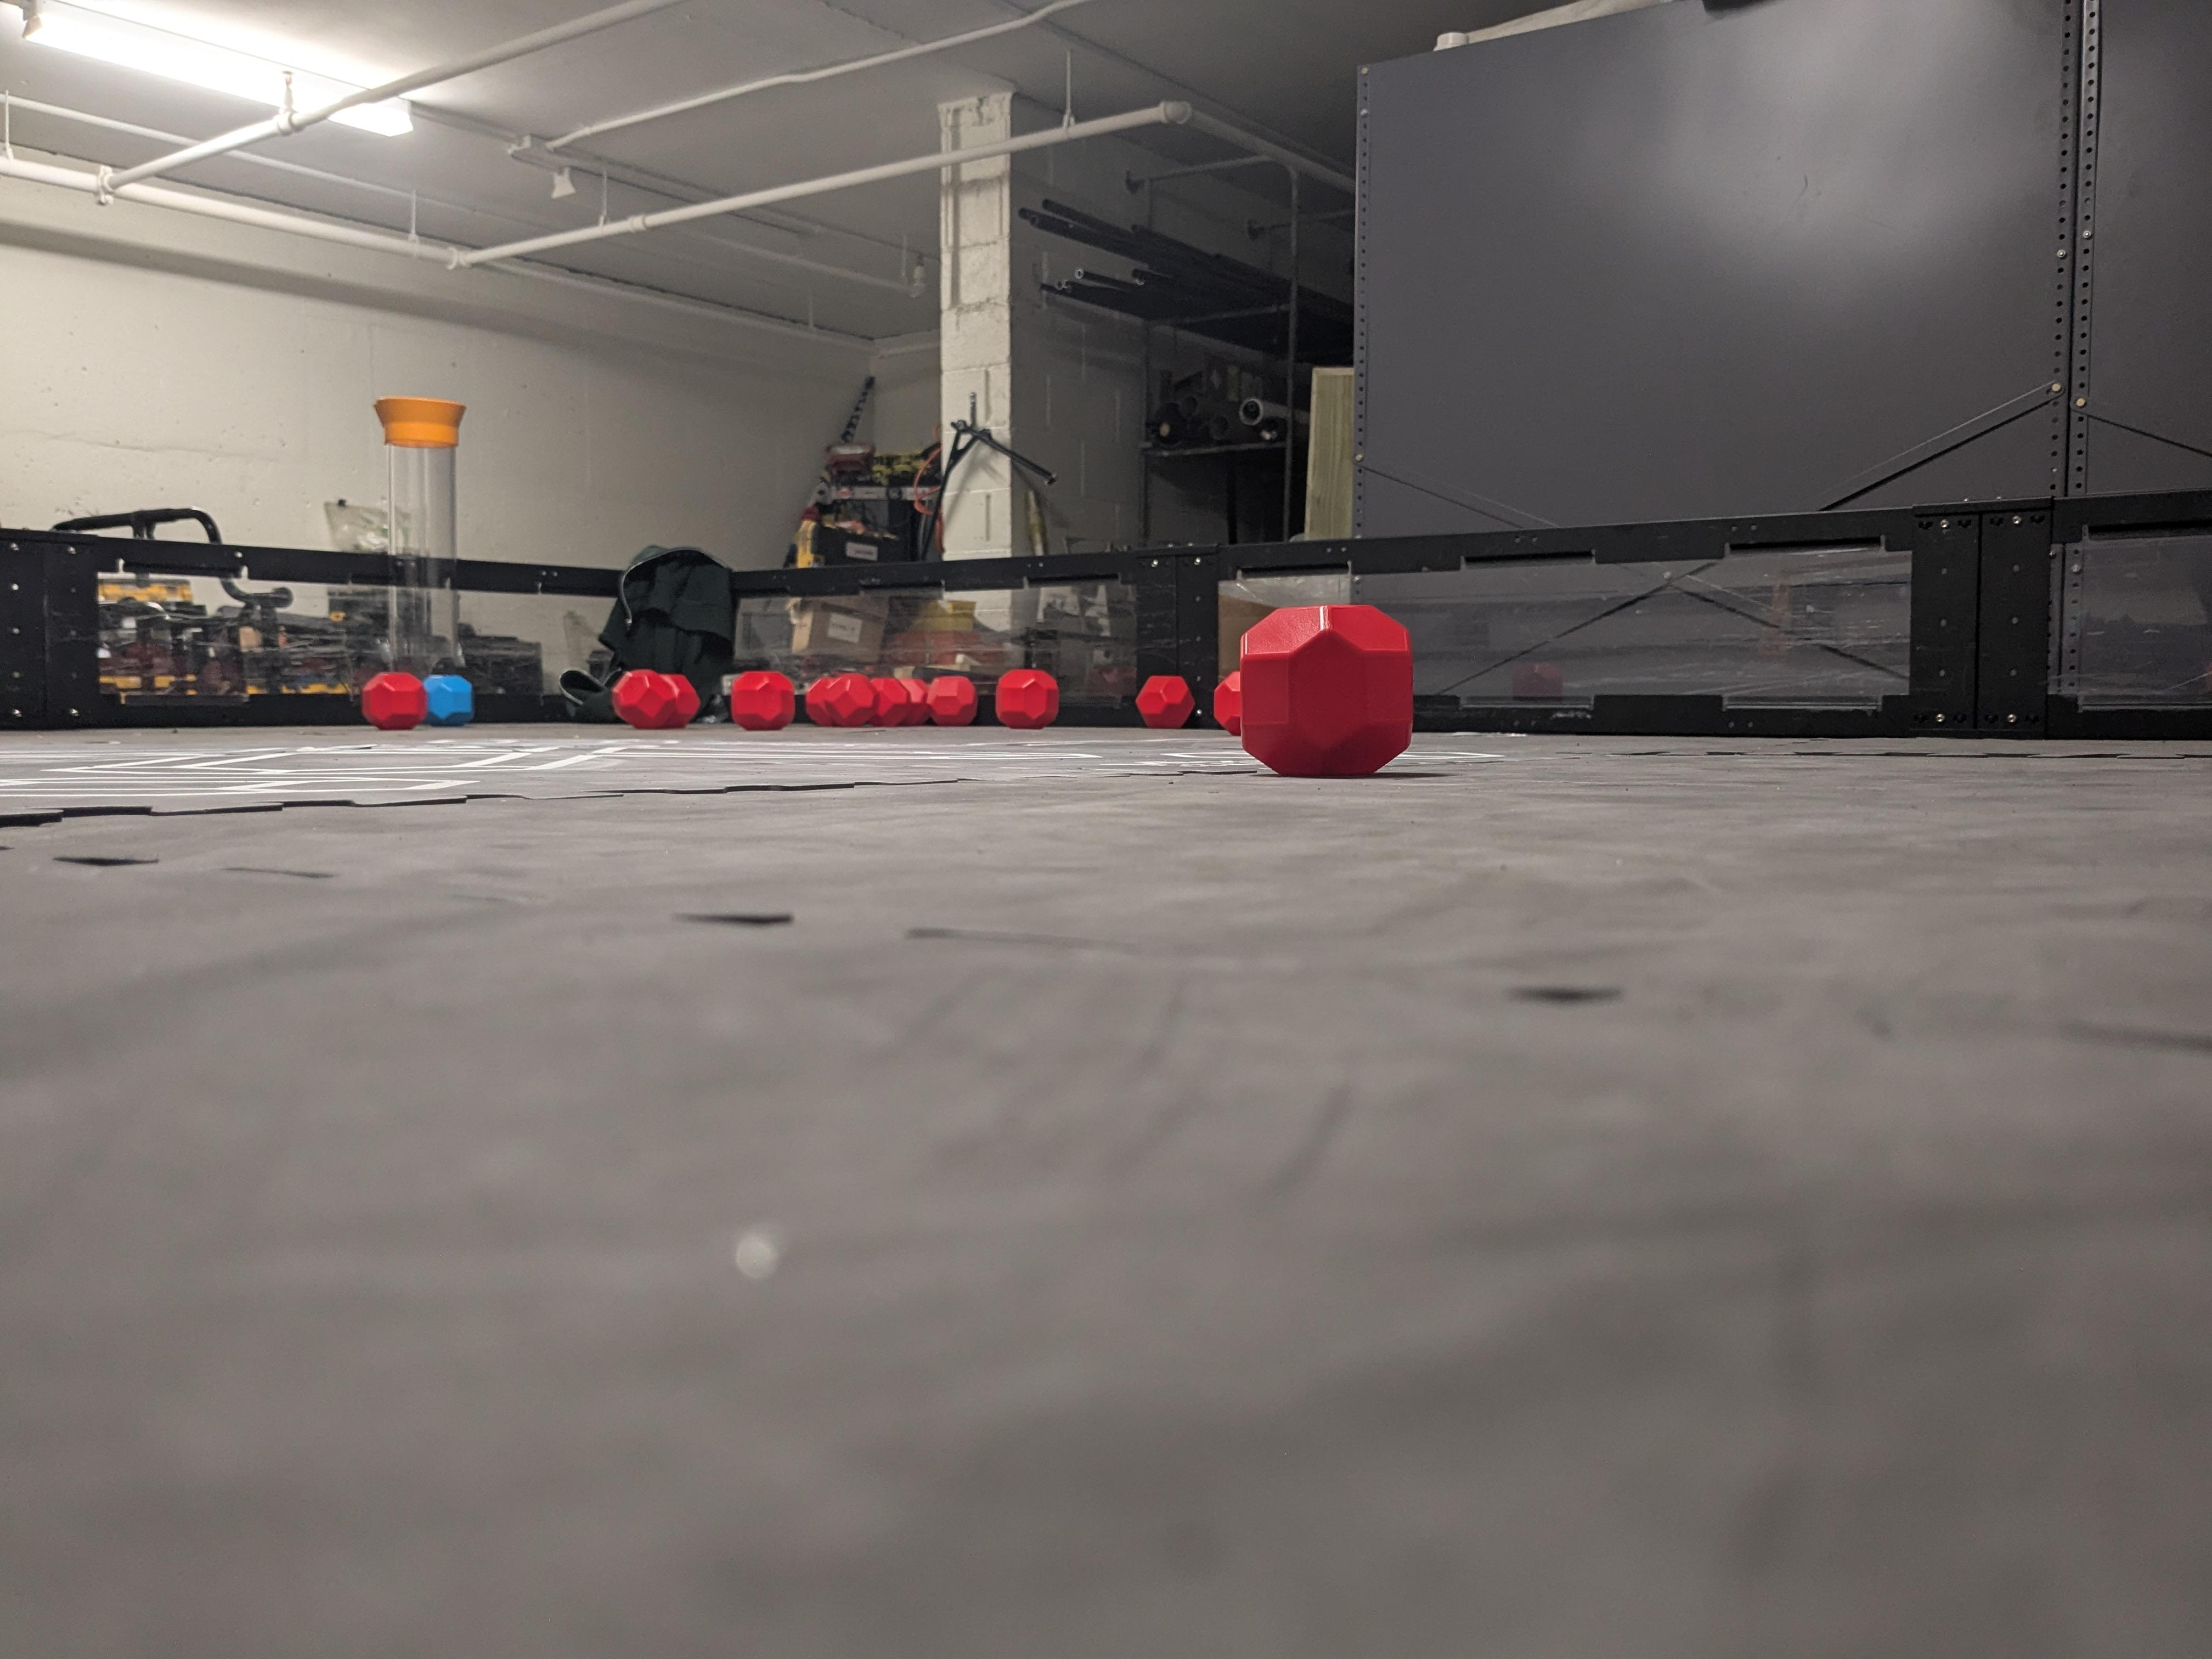Vex-Pieces-BLUE: (423, 673, 474, 725)
Vex-Pieces-RED: (1219, 606, 1409, 772), (611, 669, 700, 728), (995, 667, 1059, 728), (730, 671, 796, 730), (361, 671, 427, 728), (805, 673, 874, 727), (1136, 674, 1195, 728), (871, 678, 930, 727), (928, 674, 977, 727)
